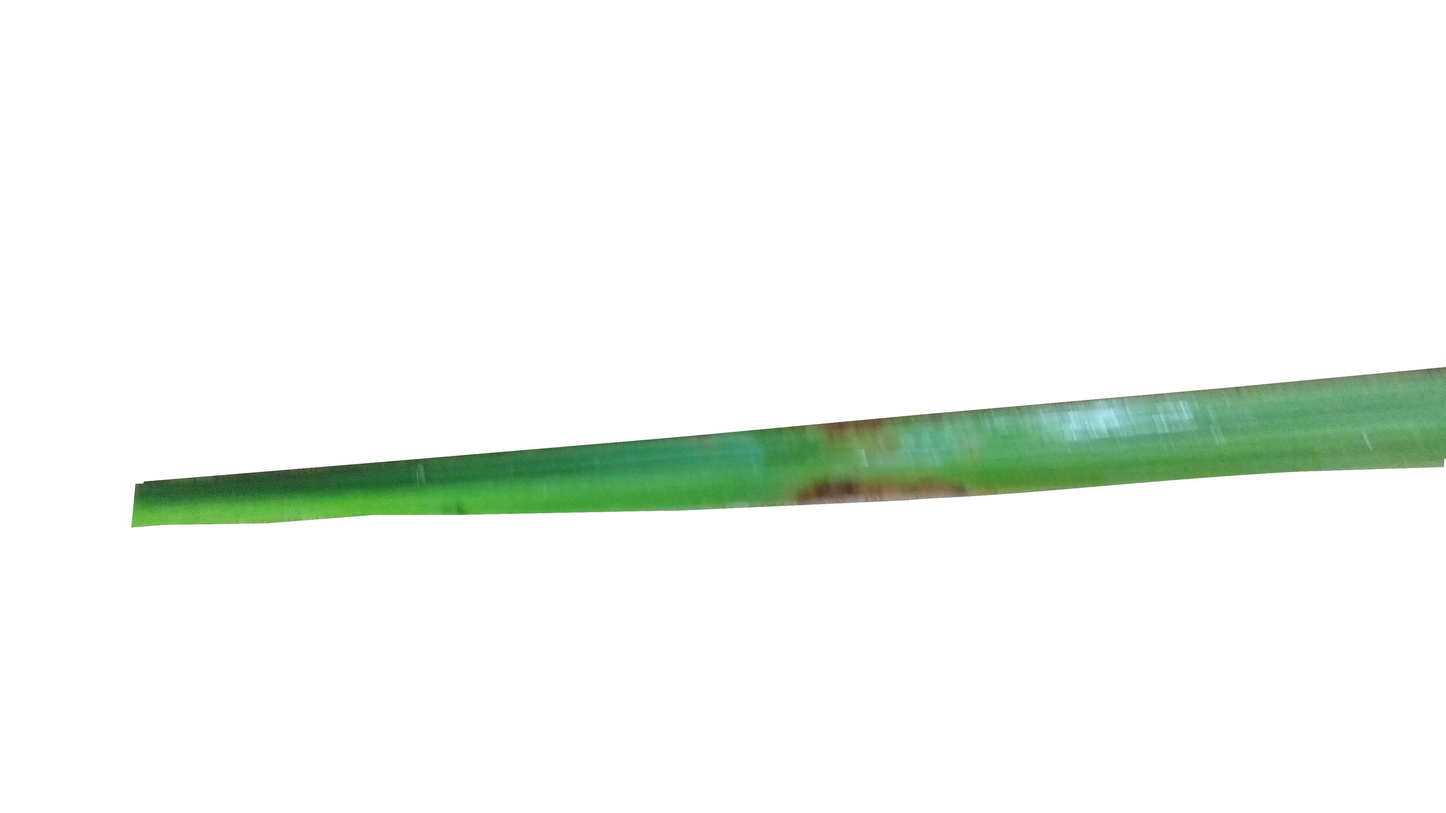Rice blast: (764, 469, 991, 518)
